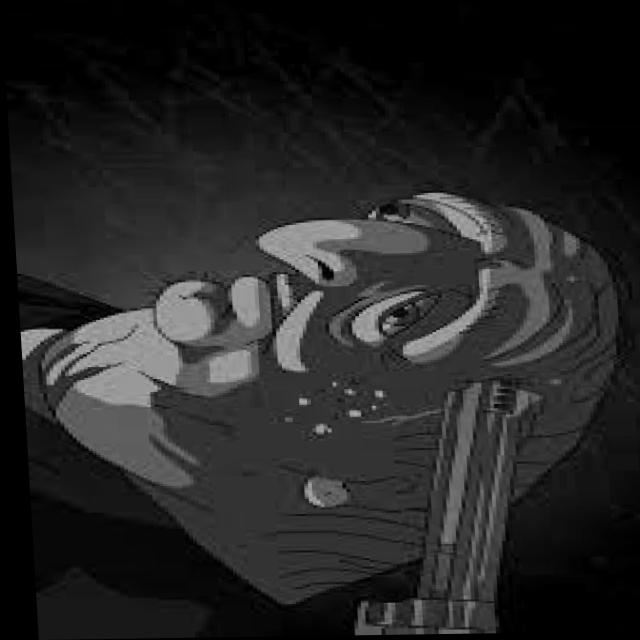handgun: (325, 382, 561, 636)
